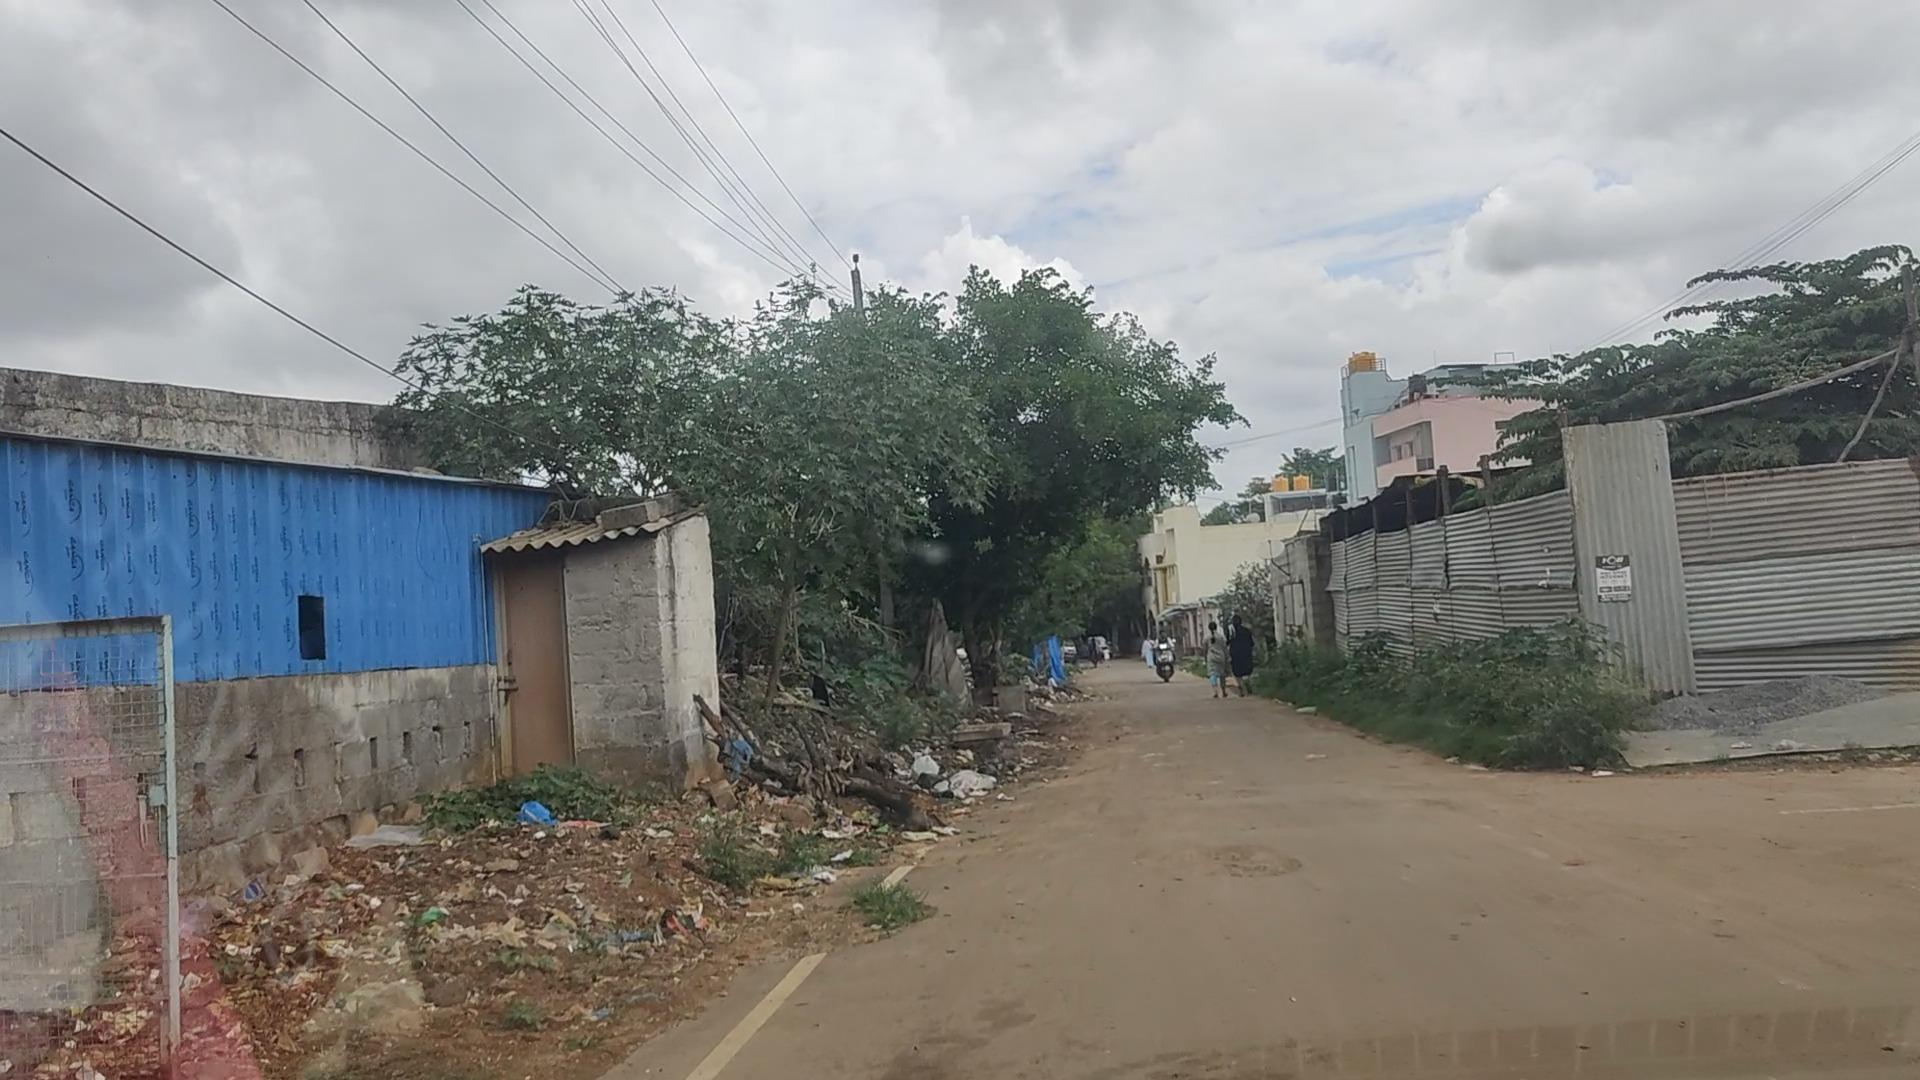RoadDamages: (1184, 818, 1327, 914)
